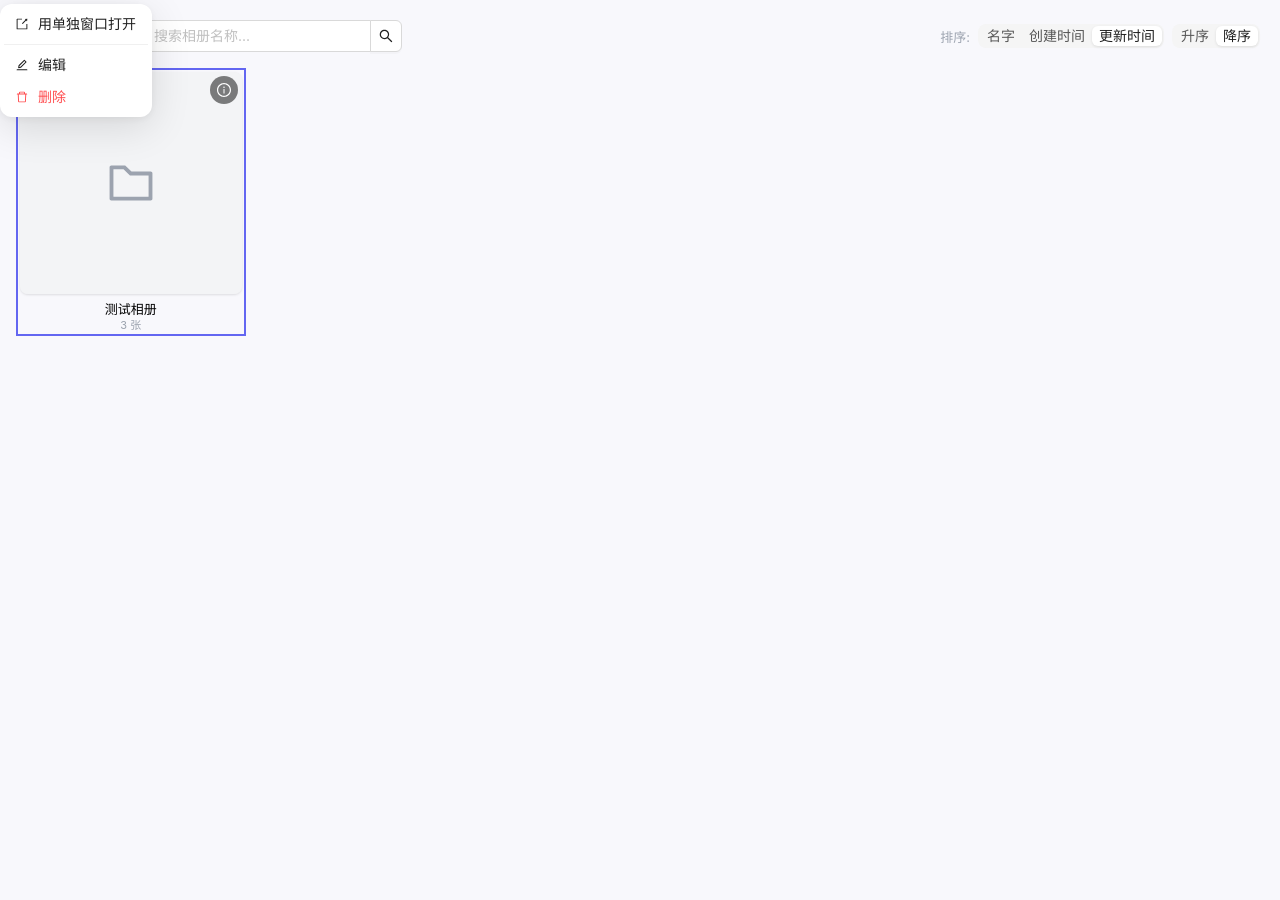
Test: GalleryPage gallery delete action › 编辑相册弹窗应保留系统关闭按钮
Step 1. Click the menu item "编辑" → (41, 64), box left=16, top=56, right=66, bottom=73
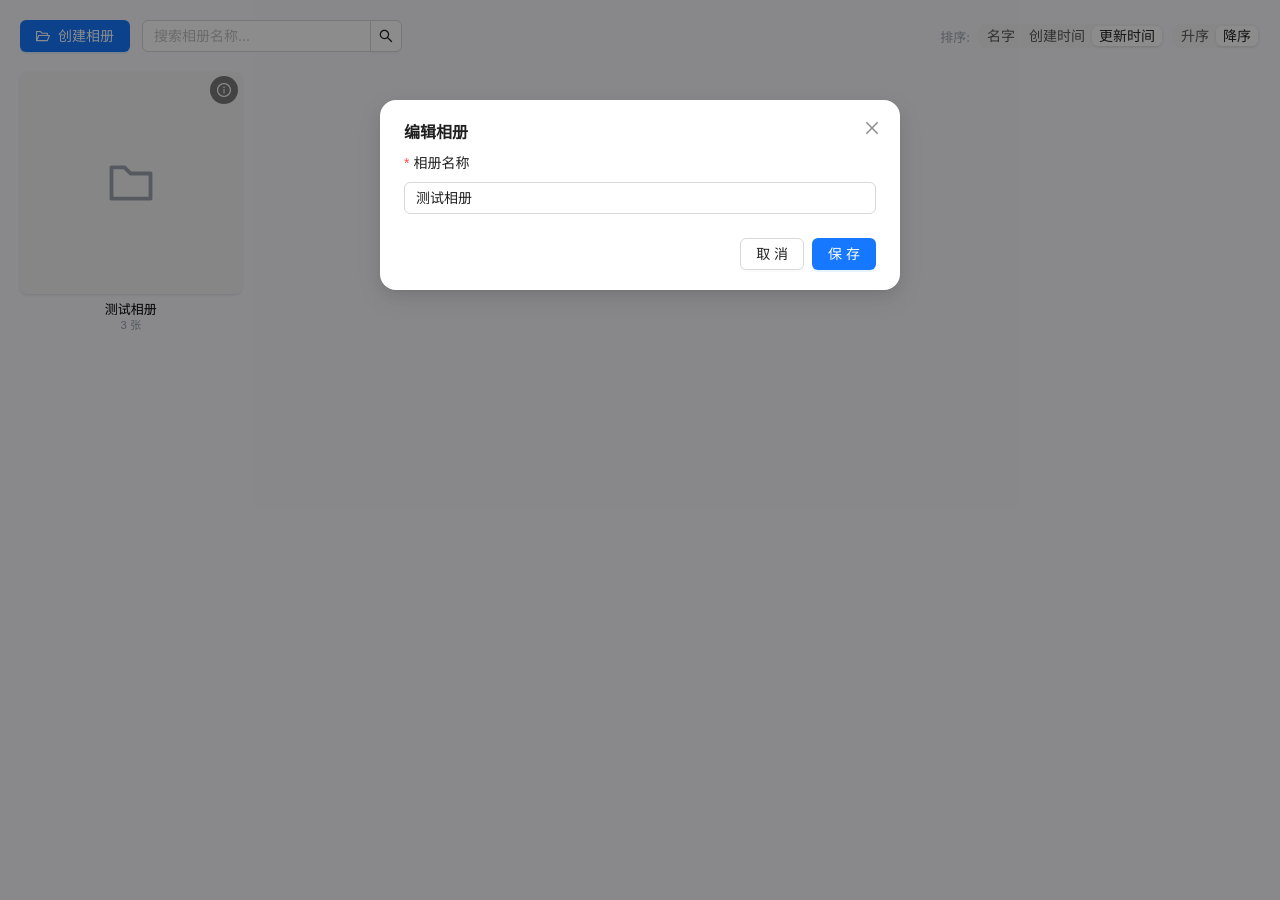
Expected: the button named "Close" is shown, left=856, top=112, right=888, bottom=144
